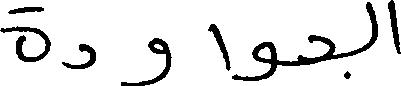X: (0, 2, 47, 66), (124, 33, 170, 85), (311, 30, 349, 83), (235, 37, 275, 85), (64, 39, 93, 73), (214, 19, 229, 75), (390, 0, 400, 58), (367, 0, 377, 53)
